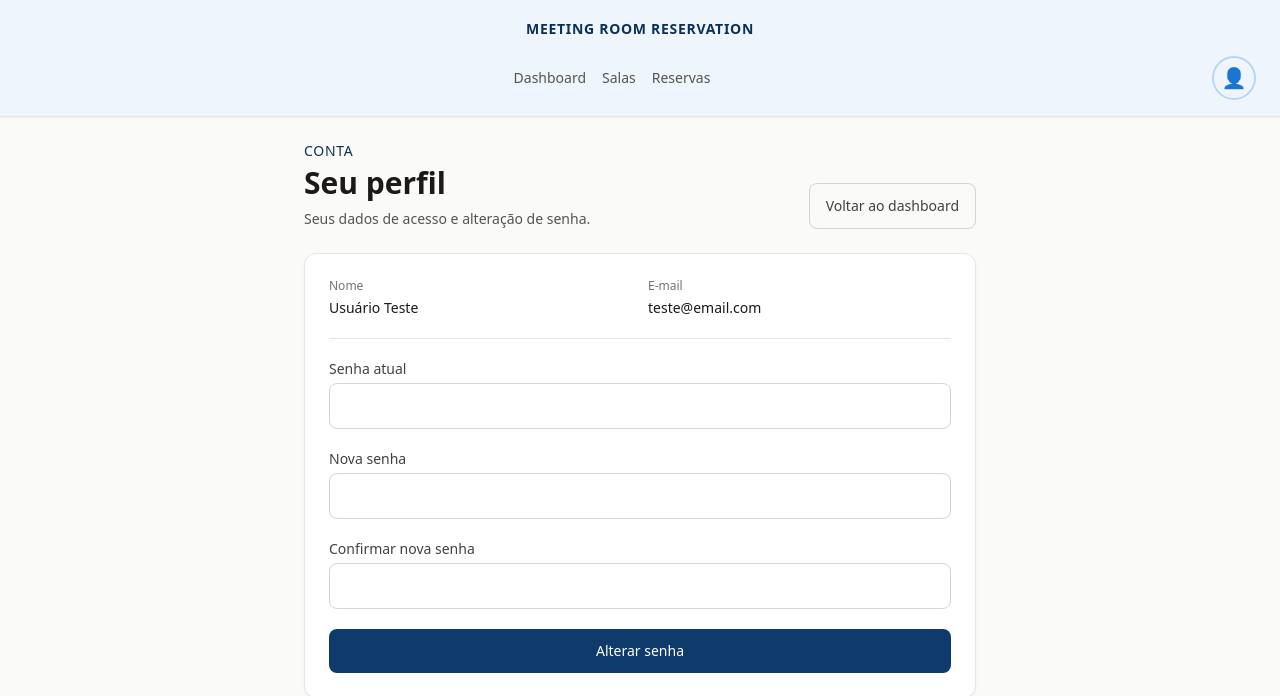
it: ProfilePage › changes the password successfully
Type "oldpass1" into the password field labelled "Senha atual".
click(640, 406); type("oldpass1")  # box left=329, top=383, right=951, bottom=429
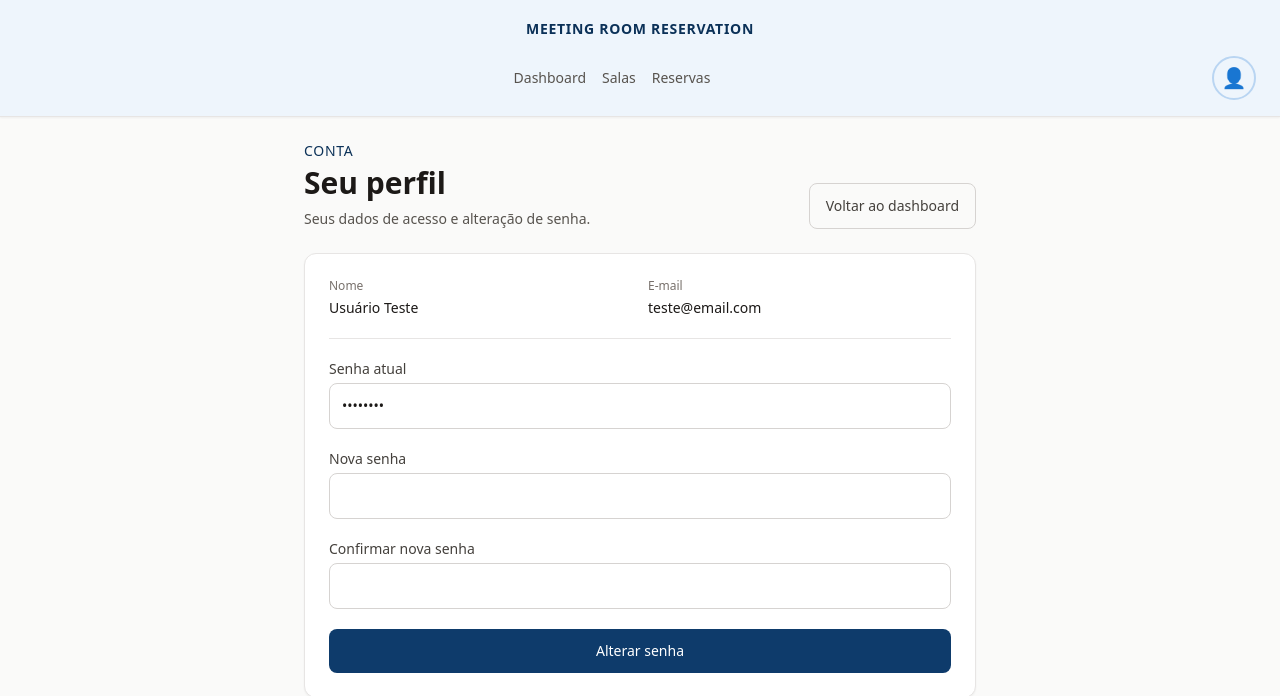
Type "newpass1" into the password field labelled "Nova senha".
click(640, 496); type("newpass1")  # box left=329, top=473, right=951, bottom=519
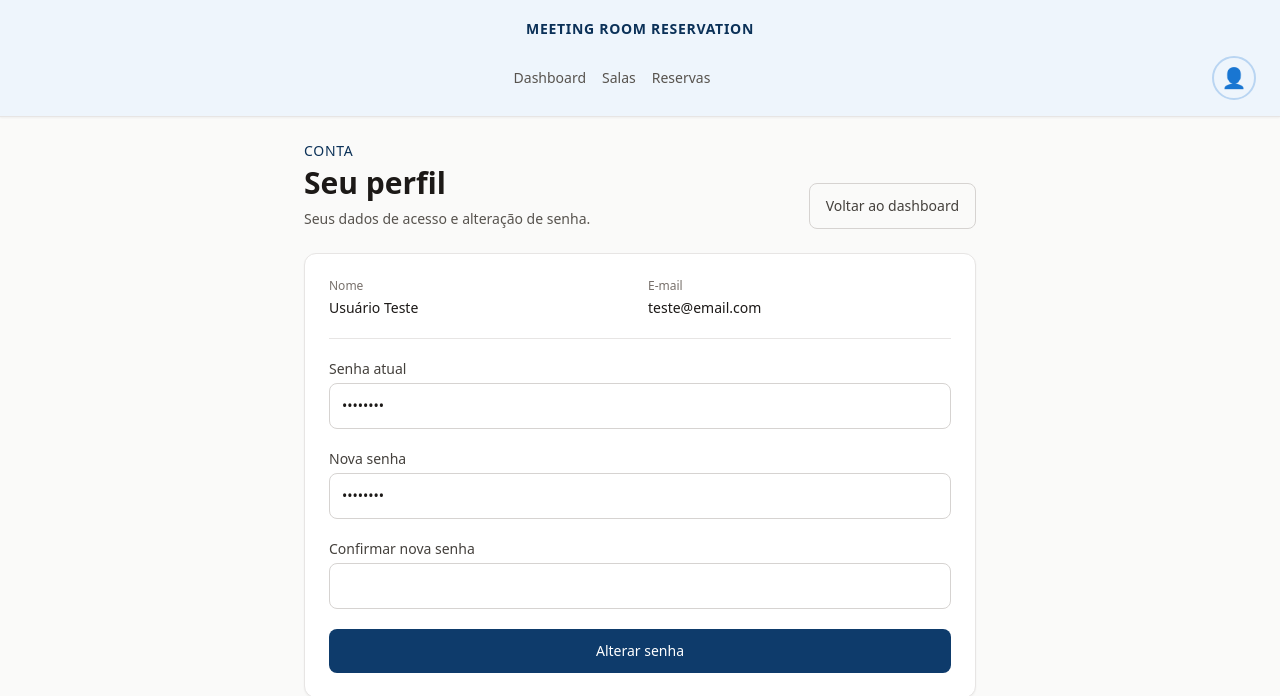
Type "newpass1" into the password field labelled "Confirmar nova senha".
click(640, 586); type("newpass1")  # box left=329, top=563, right=951, bottom=609
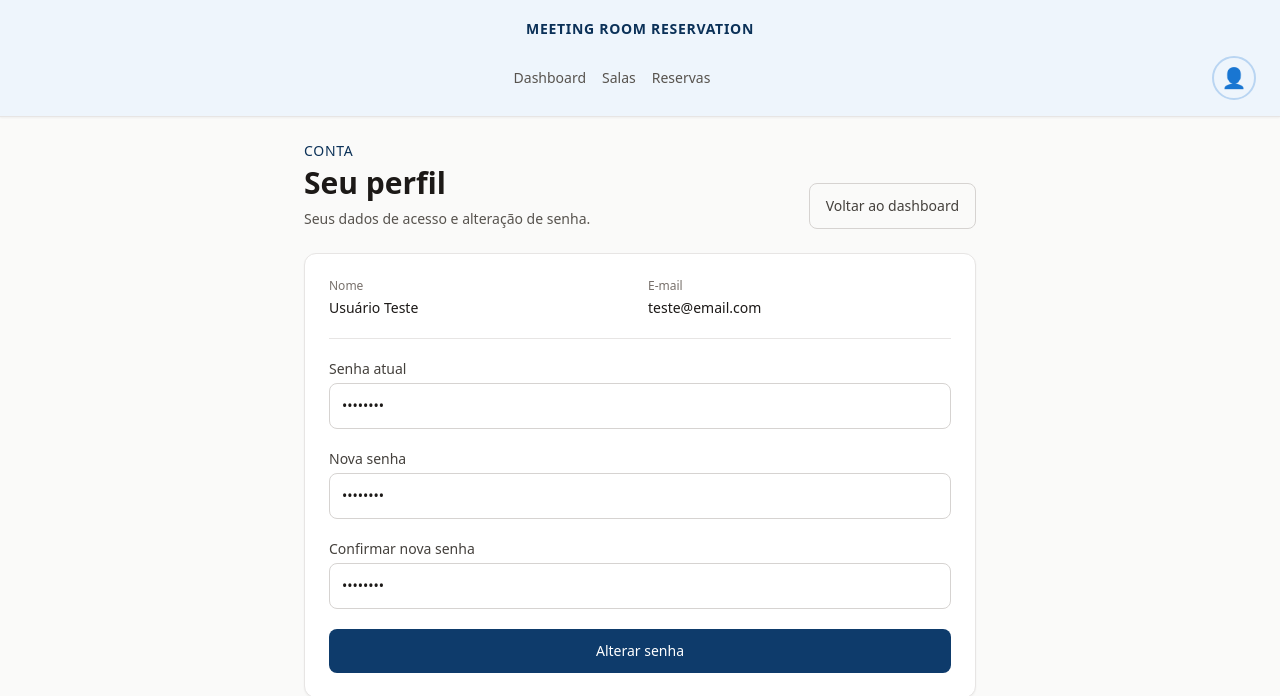
Click the button "Alterar senha".
click(640, 651)  # box left=329, top=629, right=951, bottom=673
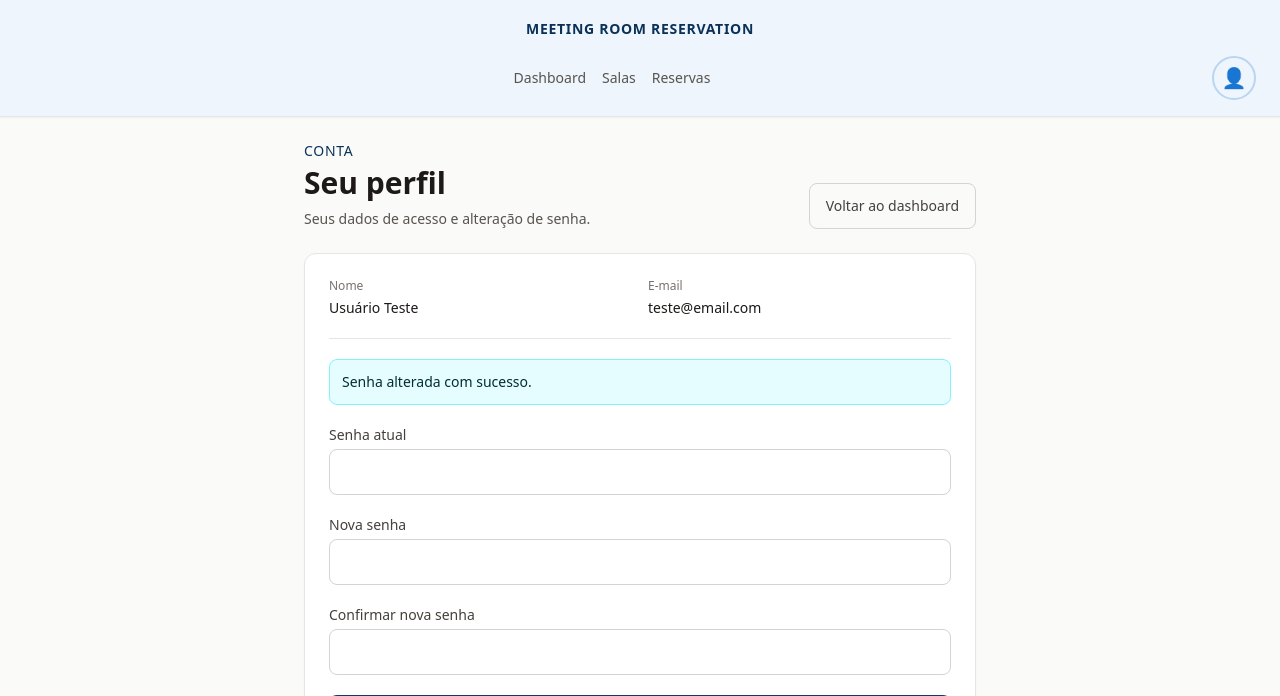
expect the text "Senha alterada com sucesso." is shown: met, box left=329, top=359, right=951, bottom=405
